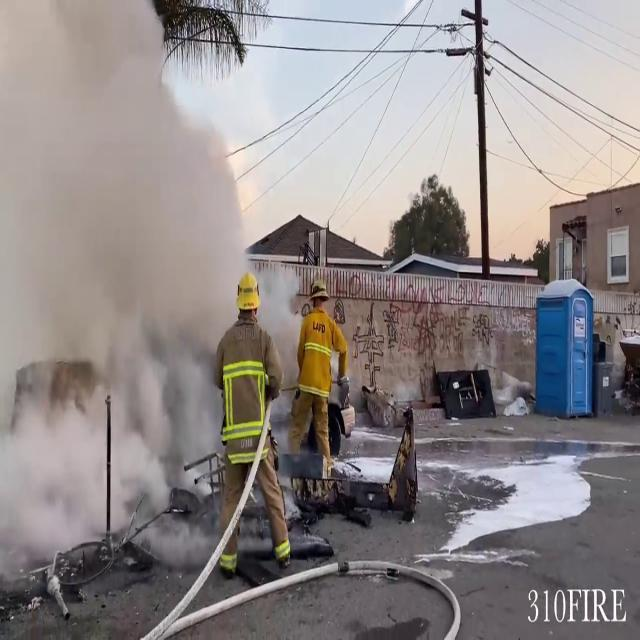Smoke: (0, 0, 263, 552)
